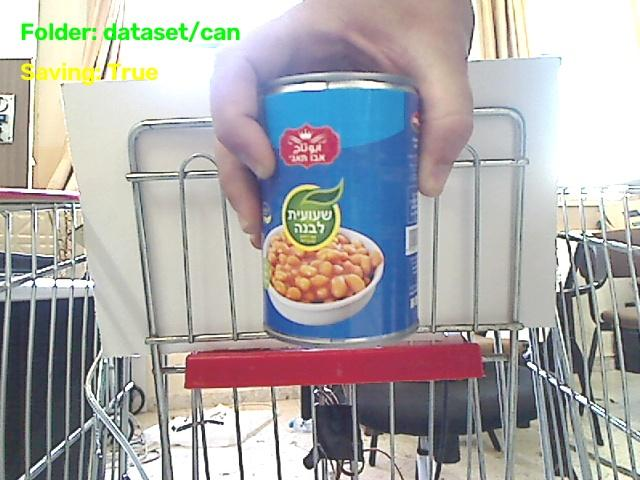can: (260, 72, 418, 345)
